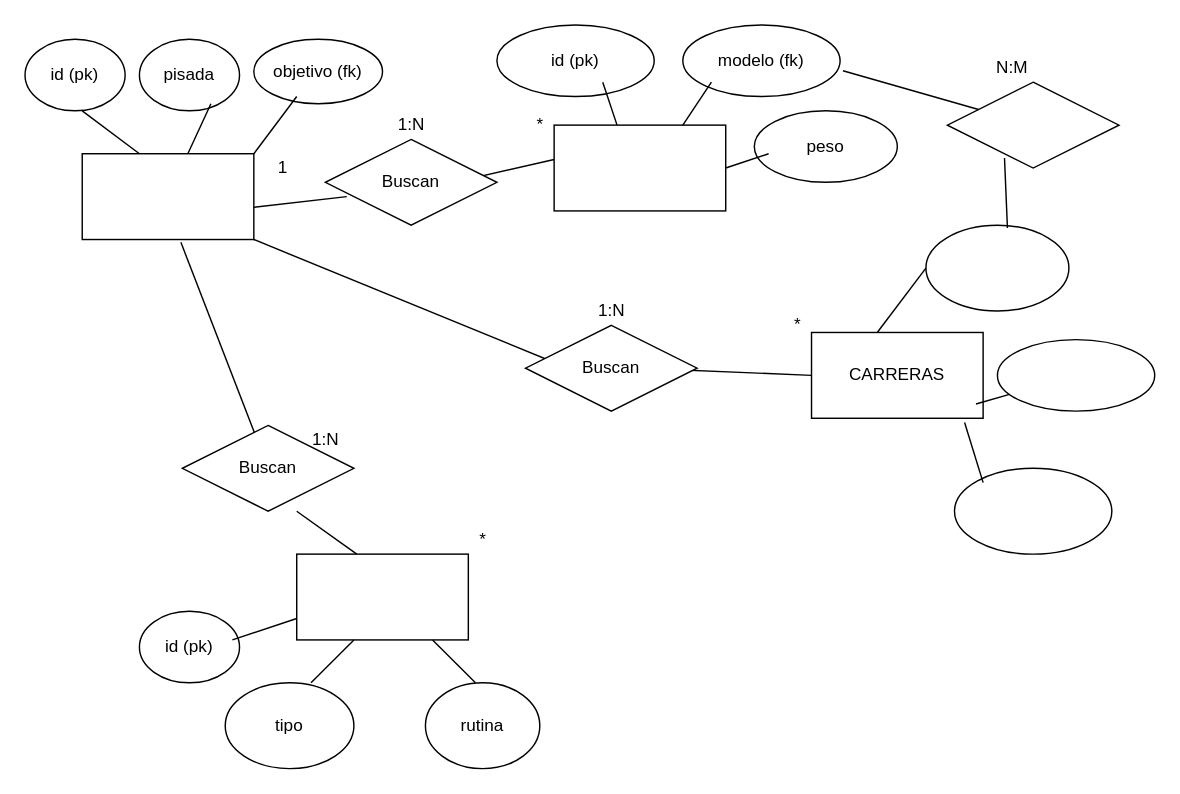
The diagram is 1180 pixels wide and 794 high, and some of its shapes have lost their labels. Here are the shapes that lost their labels. From the top down, the centre of each, then its label:
[1032,124]: se usa para
[639,167]: ZAPATILLAS
[167,196]: USUARIOS
[996,267]: distancia (fk)
[1075,374]: fecha
[1032,510]: lugar
[381,596]: EJERCICIOS
